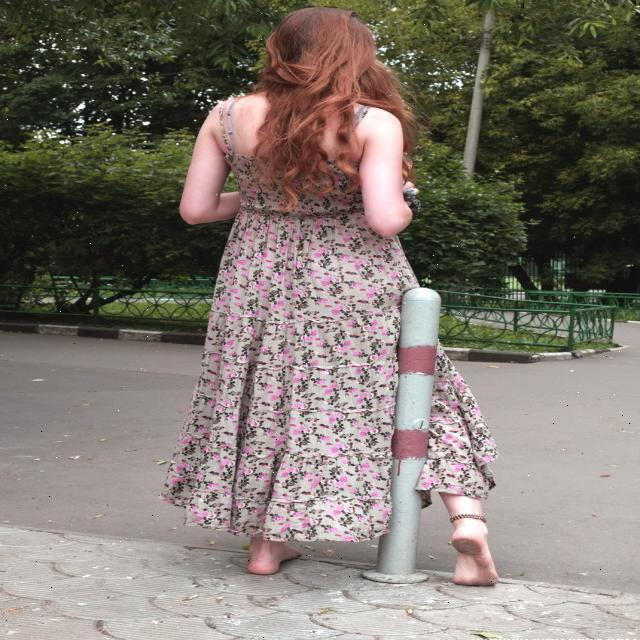No Safety Boots: (451, 529, 499, 586), (248, 544, 302, 575)
